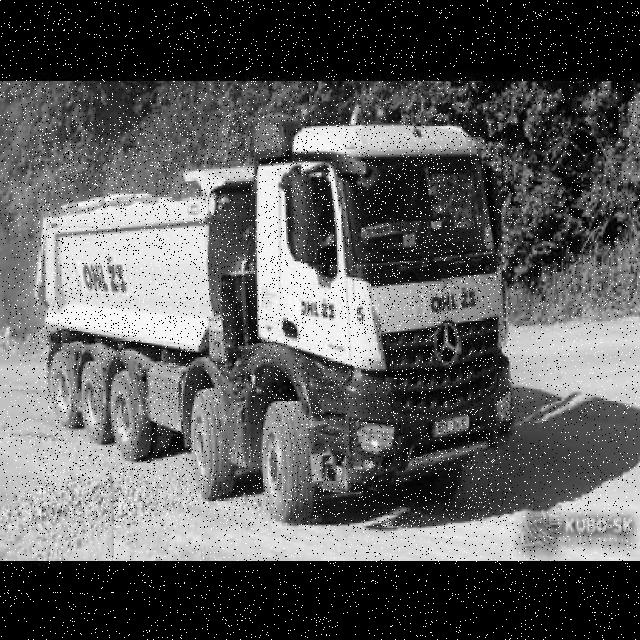Truck- Multi-Axle: (33, 116, 512, 527)
